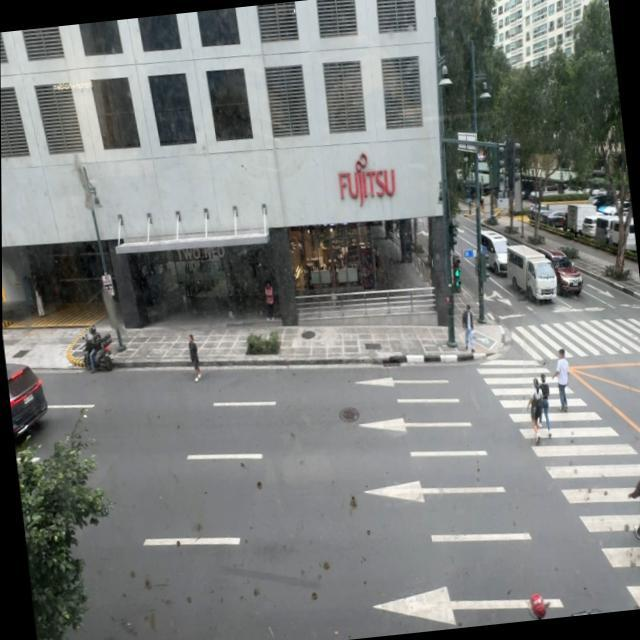jaywalking: (188, 333, 202, 381)
